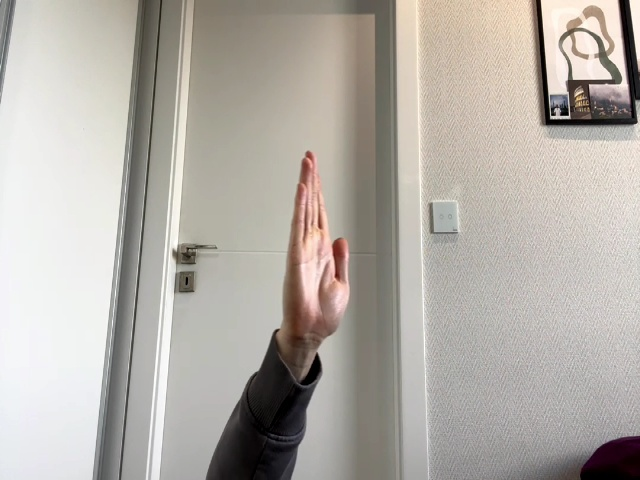SZ: (283, 151, 349, 345)
